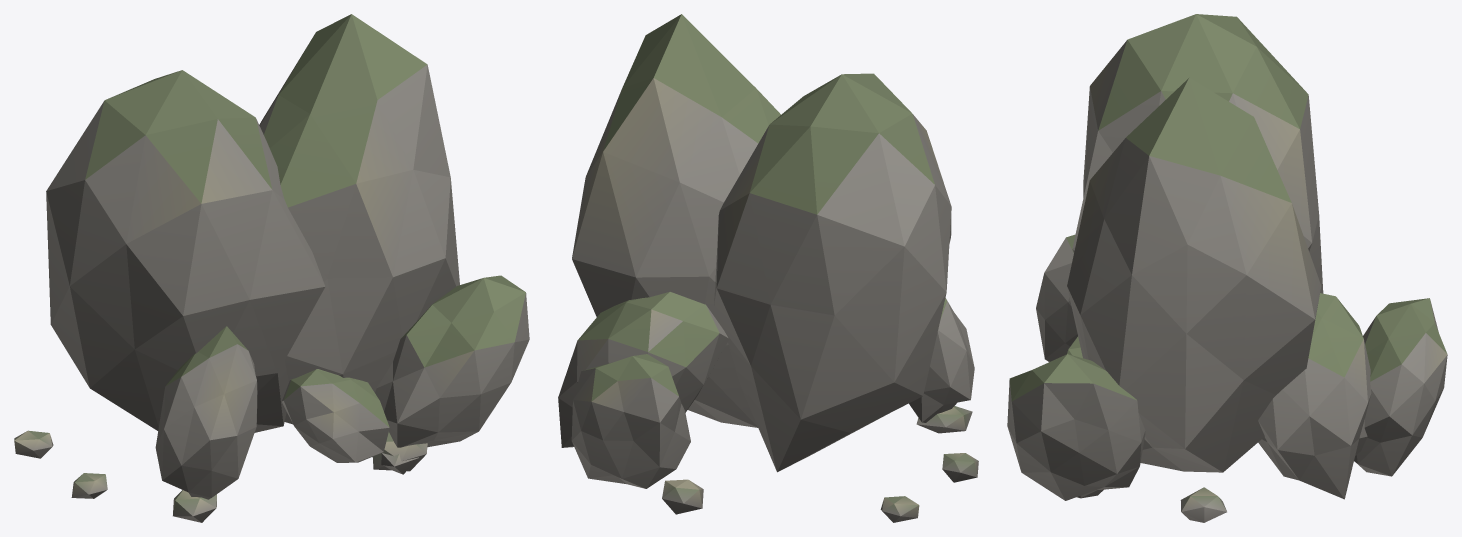
Rendered from rock_formation_a.glb.
3 views of the same model, side by side, from view 1: azimuth 30°, elevation 25°; view 2: azimuth 150°, elevation 25°; view 3: azimuth 270°, elevation 25° (orthographic). The views are drawn at different scales.
Visible parts, largest first — view 1: rock_formation_a; view 2: rock_formation_a; view 3: rock_formation_a.
Boxes of the visible parts, x1,y1,x2,y2 form: rock_formation_a: (14,14,529,522); rock_formation_a: (558,14,978,522); rock_formation_a: (1007,14,1447,522).
Size of the model in its own units: 1.7 by 1.71 by 1.62.
